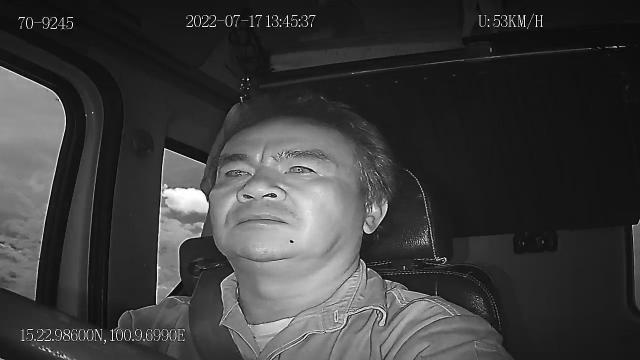SafeDriving: (277, 154, 326, 182), (214, 157, 256, 186)
Seatbelt: (186, 262, 247, 360)
